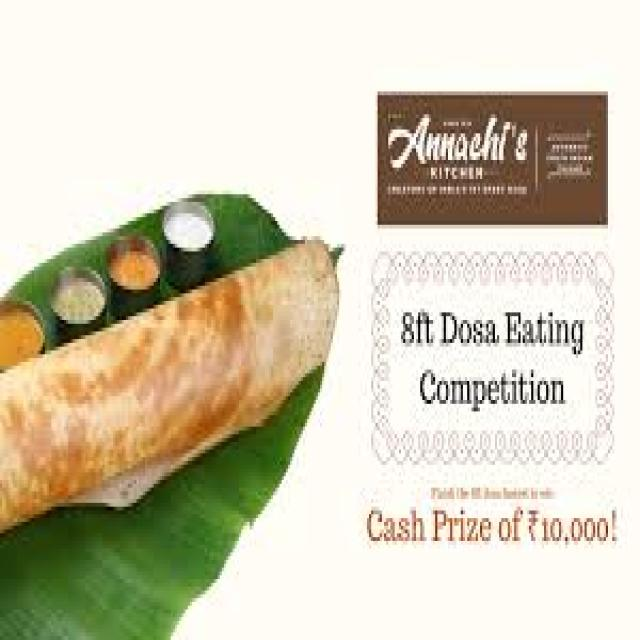DOSA: (0, 242, 341, 537)
